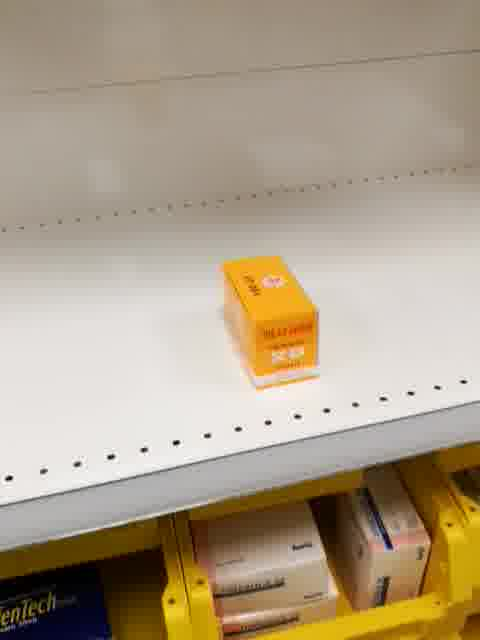jasminetea: (221, 255, 323, 393)
